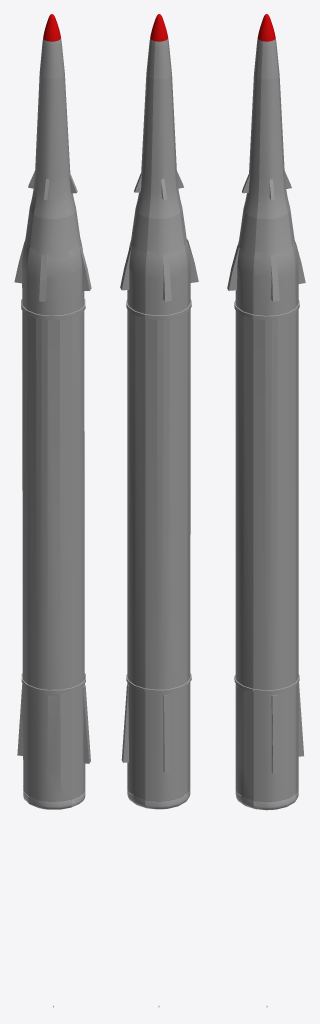
3 renders of one model, left to right at view 1: azimuth 30°, elevation 25°; view 2: azimuth 150°, elevation 25°; view 3: azimuth 330°, elevation 25°, orthographic.
Visible parts, largest first — view 1: DF26YJTJ, DF26EJTJ, DF26DT, DF26DDWG; view 2: DF26YJTJ, DF26EJTJ, DF26DT, DF26DDWG; view 3: DF26YJTJ, DF26EJTJ, DF26DT, DF26DDWG.
Boxes of the visible parts, <box> form: DF26YJTJ: <box>14,209,91,801</box>; DF26EJTJ: <box>28,75,77,218</box>; DF26DT: <box>39,14,64,79</box>; DF26DDWG: <box>23,786,85,809</box>; DF26YJTJ: <box>120,209,198,801</box>; DF26EJTJ: <box>134,74,183,218</box>; DF26DT: <box>146,14,171,79</box>; DF26DDWG: <box>127,789,190,809</box>; DF26YJTJ: <box>227,209,305,802</box>; DF26EJTJ: <box>242,74,291,219</box>; DF26DT: <box>254,14,279,79</box>; DF26DDWG: <box>235,789,298,810</box>.
Size of the model in its own units: 0.035 by 0.5861 by 0.0351.
Materials: 7 (4 with a texture image).
